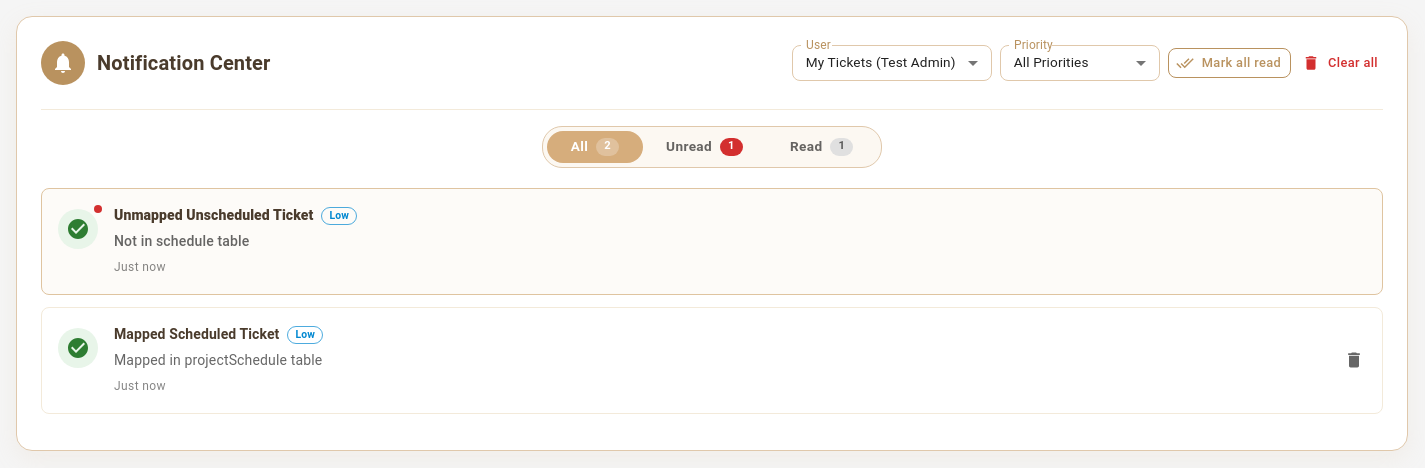
Test: NotificationScreen Component › lists tickets mapped by Ticket_Id in the schedule table under the Read tab
Expected: the heading "Unmapped Unscheduled Ticket" is shown, x1=114 y1=205 x2=314 y2=227
Expected: the heading "Mapped Scheduled Ticket" is shown, x1=114 y1=324 x2=279 y2=346
Unread tab should only show Unmapped Unscheduled Ticket
Step 1. Click the button "Unread 1" → (705, 147), box x1=642 y1=131 x2=767 y2=163
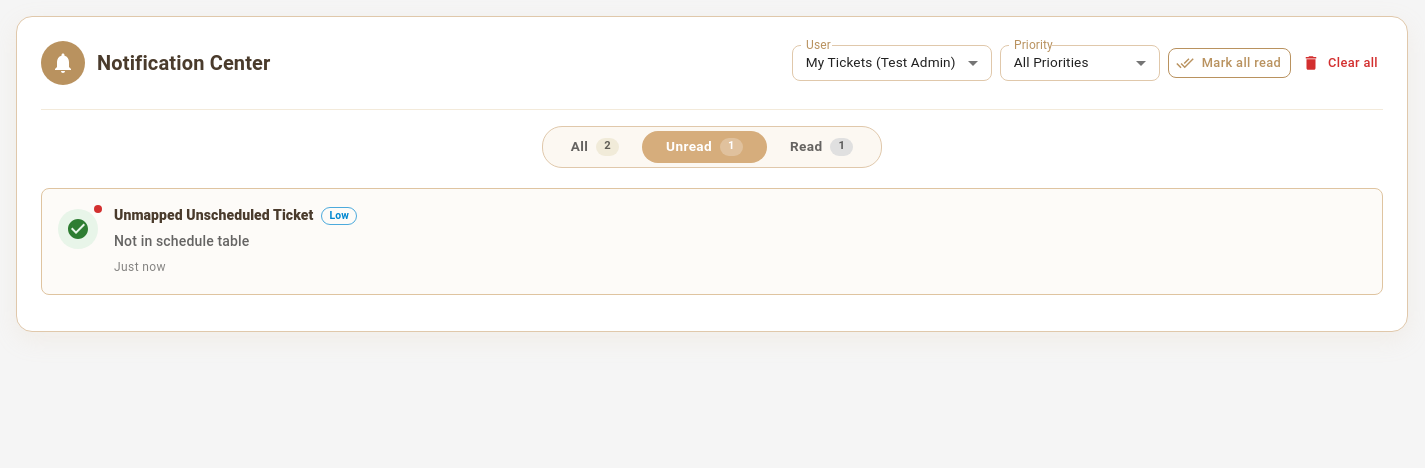
Expected: the heading "Unmapped Unscheduled Ticket" is shown, x1=114 y1=205 x2=314 y2=227
Result: the heading "Mapped Scheduled Ticket" is gone
Read tab should show Mapped Scheduled Ticket
Step 2. Click the button "Read 1" → (822, 147), box x1=766 y1=131 x2=877 y2=163
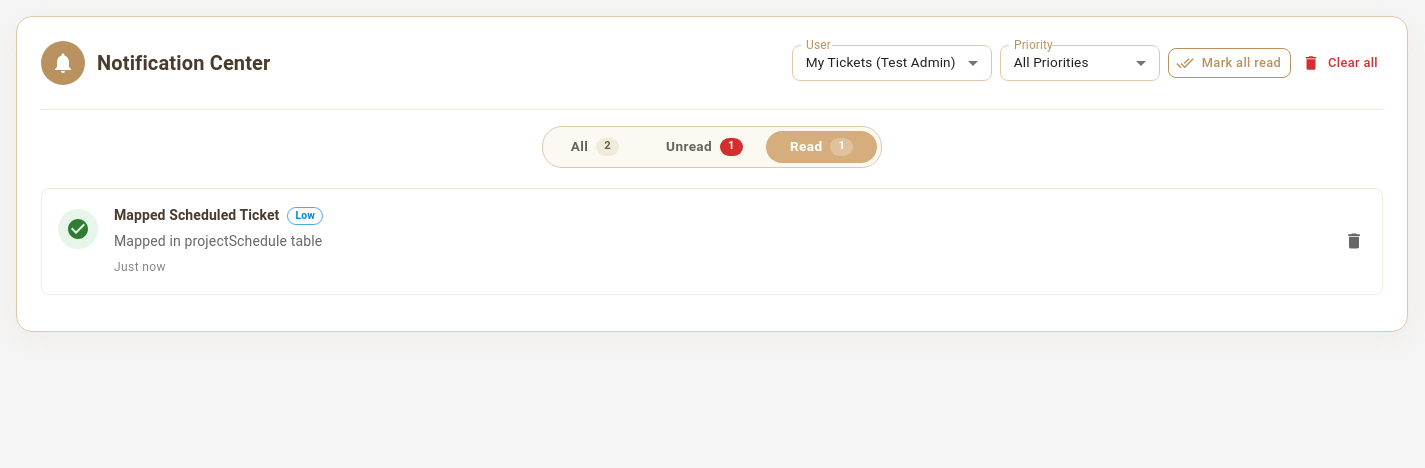
Result: the heading "Unmapped Unscheduled Ticket" is gone
Result: the heading "Mapped Scheduled Ticket" is shown at x1=114 y1=205 x2=279 y2=227
